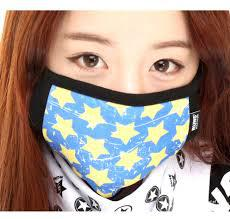OK: (46, 34, 207, 195)
